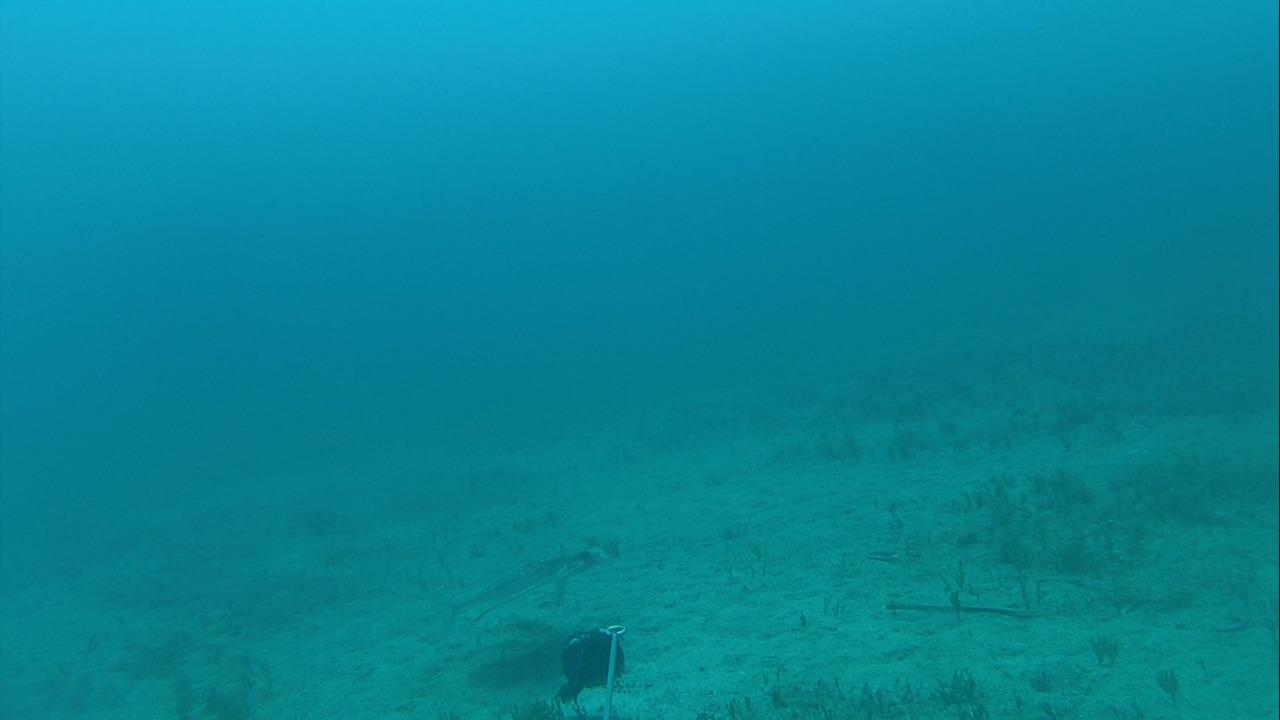dactylopterus: (426, 539, 597, 626)
